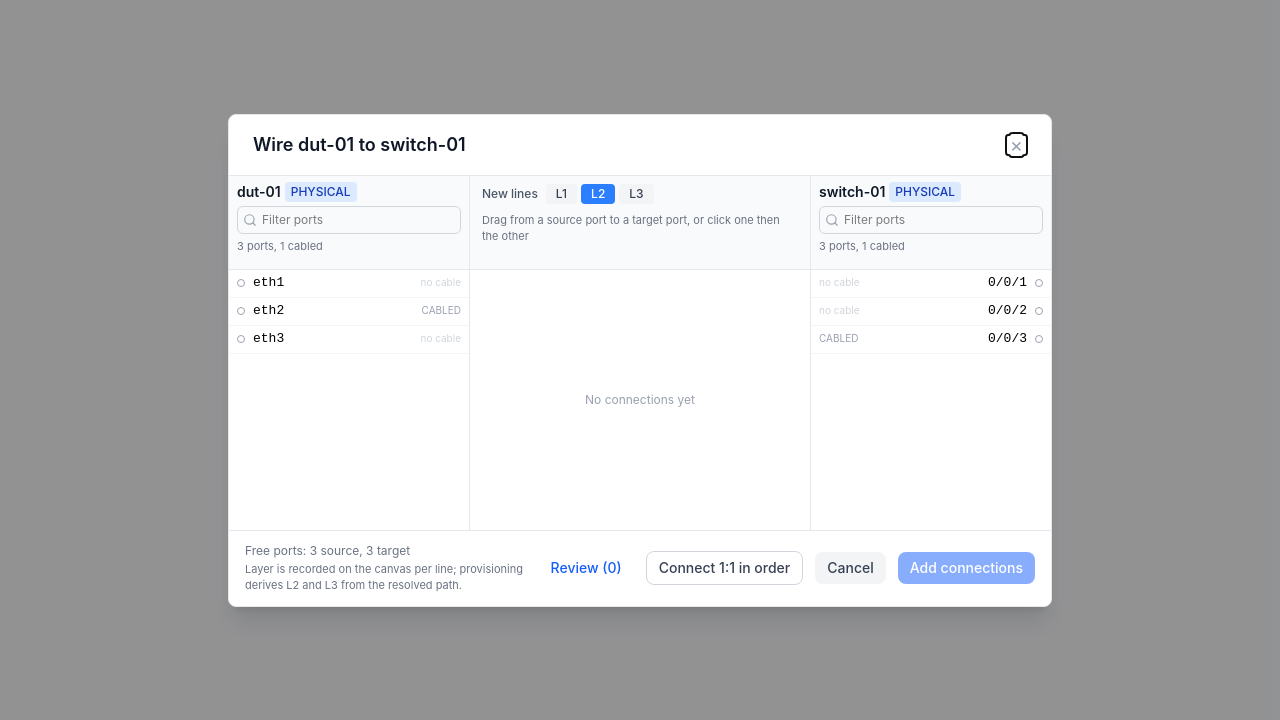
Test case: WiringDialog › filters narrow a column, clearing restores it, and a no-match filter shows the quiet empty line
This screenshot has width=1280, height=720.
Type "eth1" into the field named "Filter source ports" at {"x": 349, "y": 220}, box [237,206,461,234]
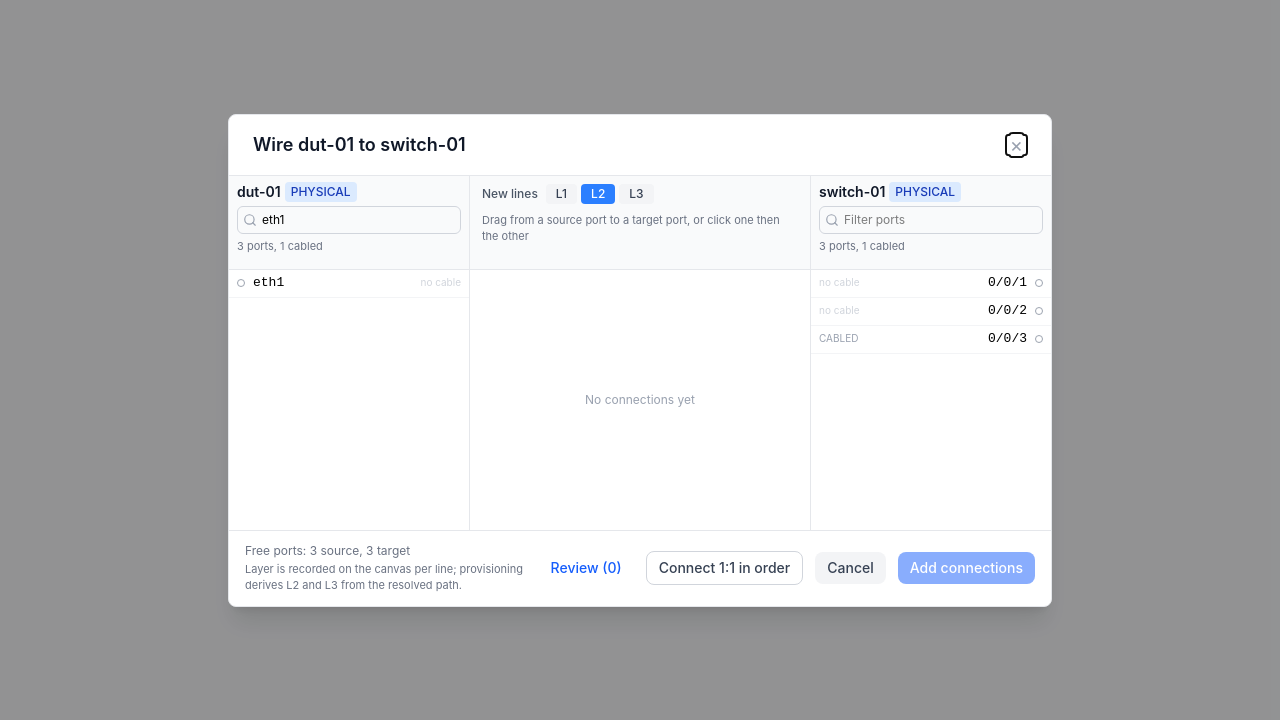
Expected: the text "eth1" is shown, [253,275,284,290]
Result: the button "eth2" is gone
Replace the text in the field named "Filter source ports" with "zzz" at {"x": 349, "y": 220}, box [237,206,461,234]
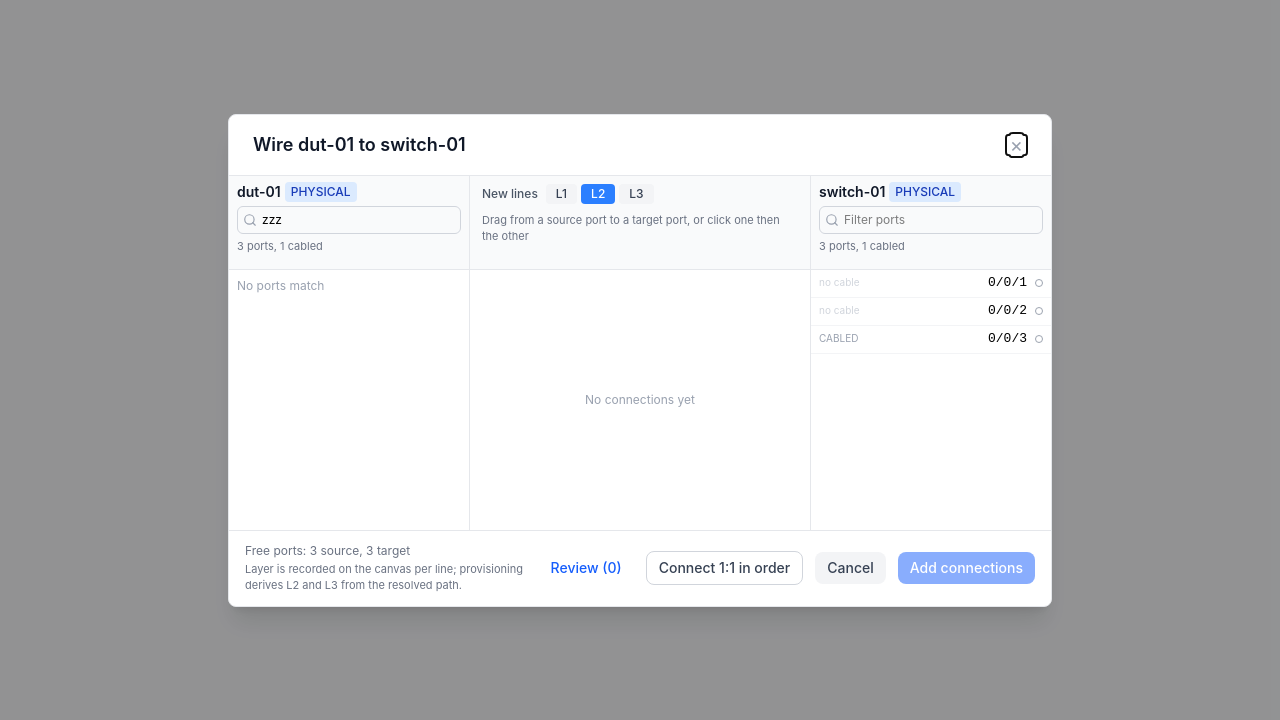
Result: the text "No ports match" is shown at [237,278,324,292]
Clear the field named "Filter source ports" at {"x": 349, "y": 220}, box [237,206,461,234]
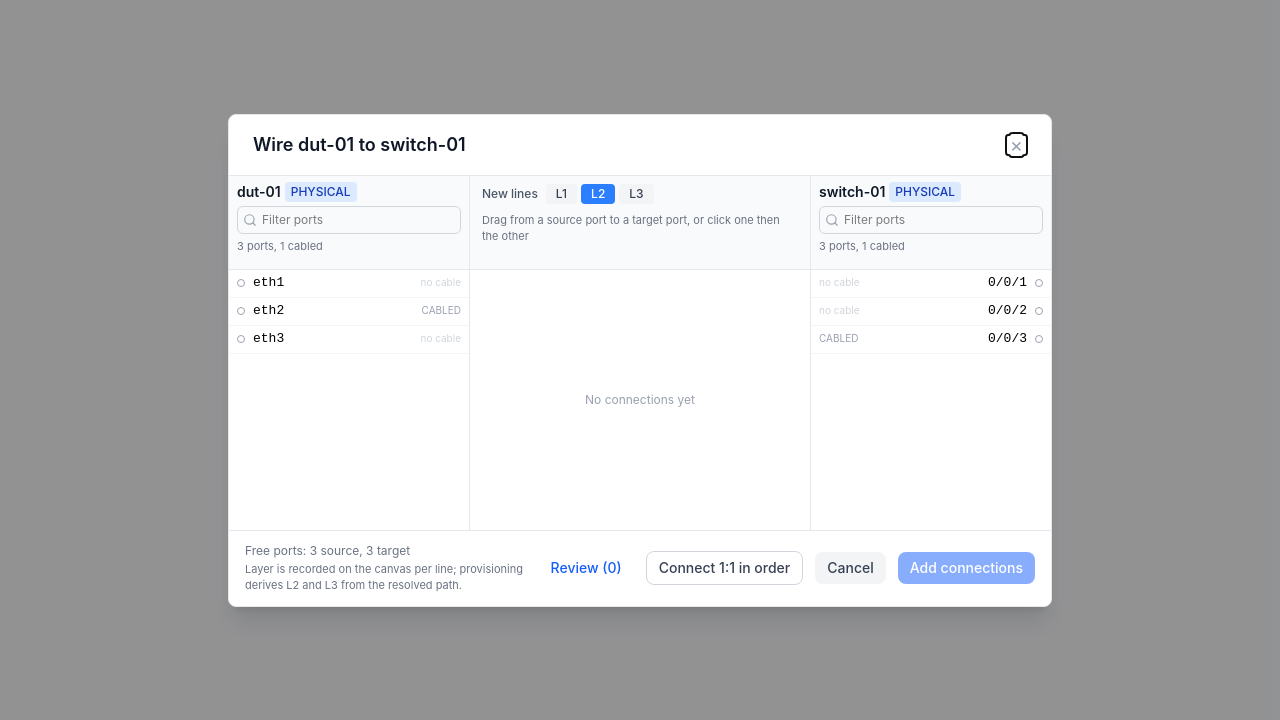
Result: the text "eth1" is shown at [253,275,284,290]
Result: the text "eth2" is shown at [253,303,284,318]
